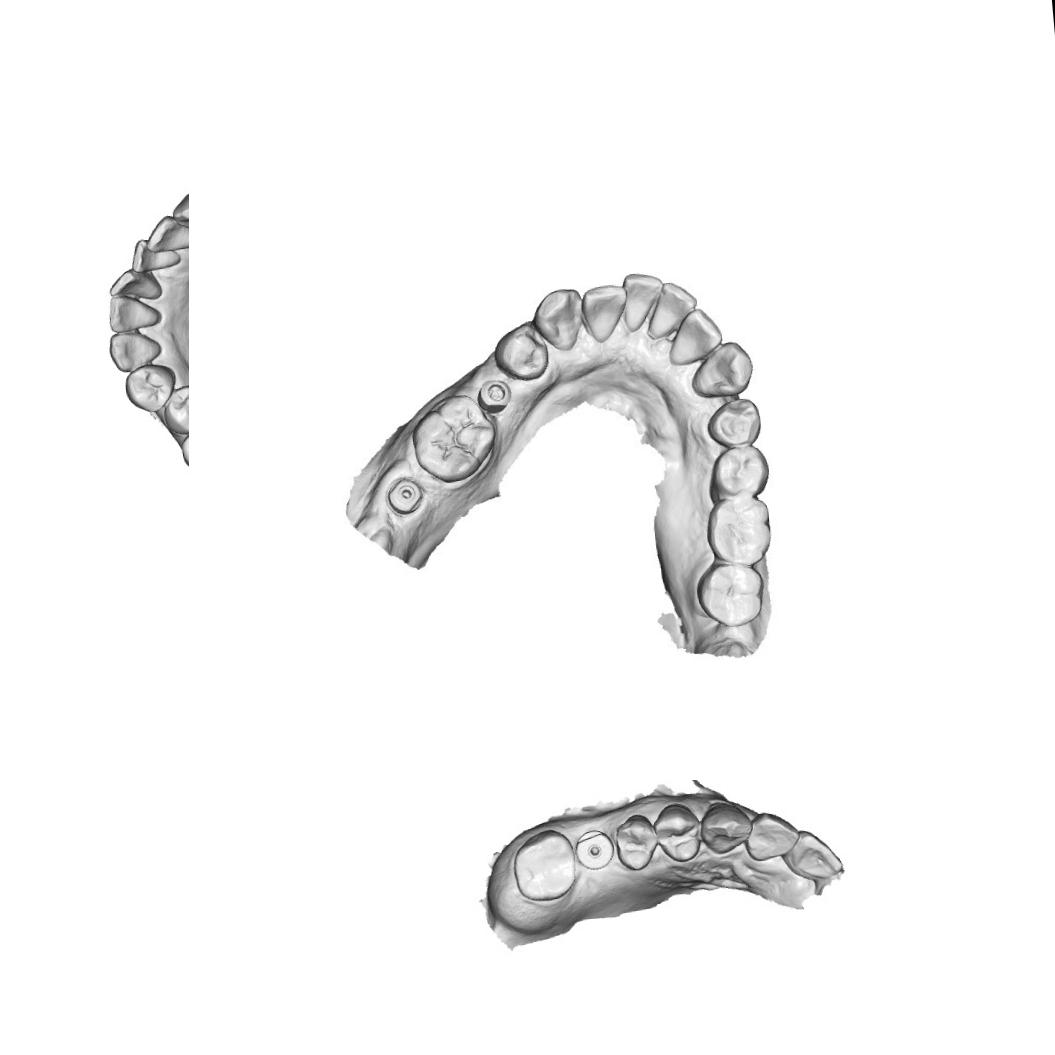canine: (684, 338, 760, 404), (530, 286, 584, 354), (696, 798, 756, 856), (105, 326, 164, 374), (168, 185, 189, 236)
implant: (572, 826, 615, 872), (382, 472, 425, 516), (478, 376, 515, 414)
incisor: (663, 306, 727, 368), (779, 824, 845, 884), (644, 274, 699, 340), (742, 808, 802, 862), (579, 281, 628, 345), (614, 270, 660, 334), (102, 290, 162, 334), (106, 264, 163, 302), (128, 234, 182, 274), (142, 211, 189, 254)
molar: (408, 388, 500, 484), (703, 493, 776, 571), (508, 825, 579, 904), (696, 556, 766, 632)
premolar: (491, 318, 551, 386), (700, 396, 768, 450), (708, 442, 768, 501), (652, 800, 704, 865), (121, 361, 179, 414), (611, 811, 661, 872), (160, 381, 189, 436)
